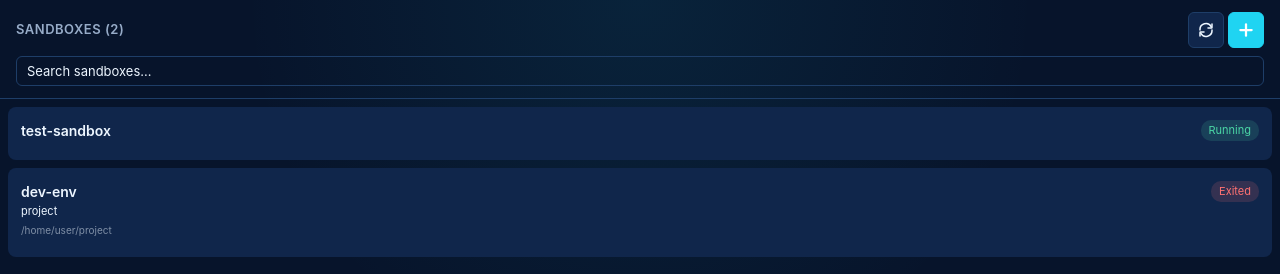
Test: SandboxList › filters by search query
Type "dev" into the field with placeholder "Search sandboxes…" at (640, 71), box [16,56,1264,86]
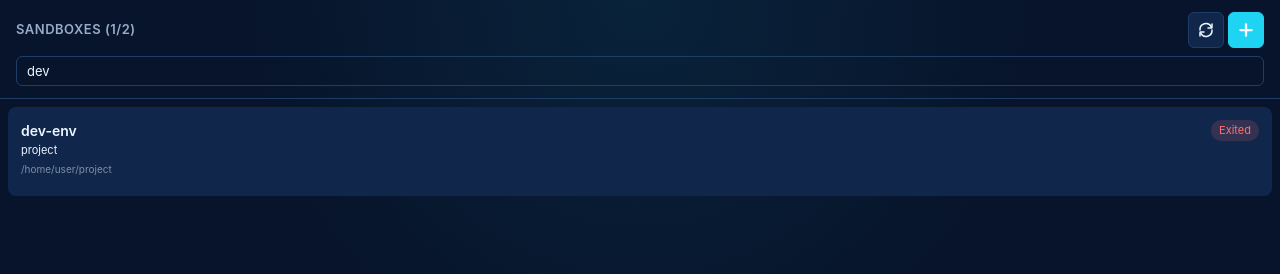
Check: the text "dev-env" is shown, box [21,122,77,139]
Check: the text "test-sandbox" is gone
